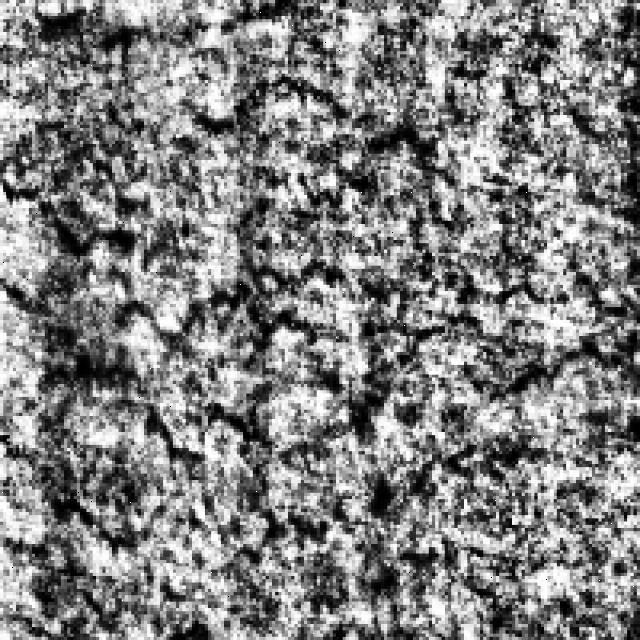Pitted_Surface: (54, 256, 640, 509)
